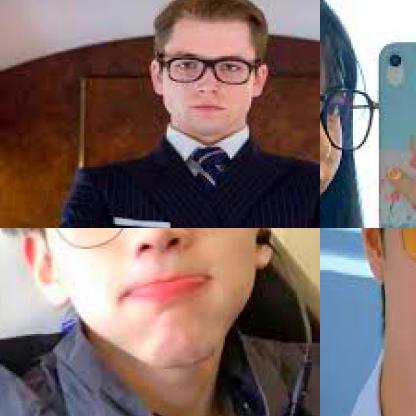glasses: (31, 228, 259, 256), (320, 80, 393, 148), (159, 49, 255, 89)
